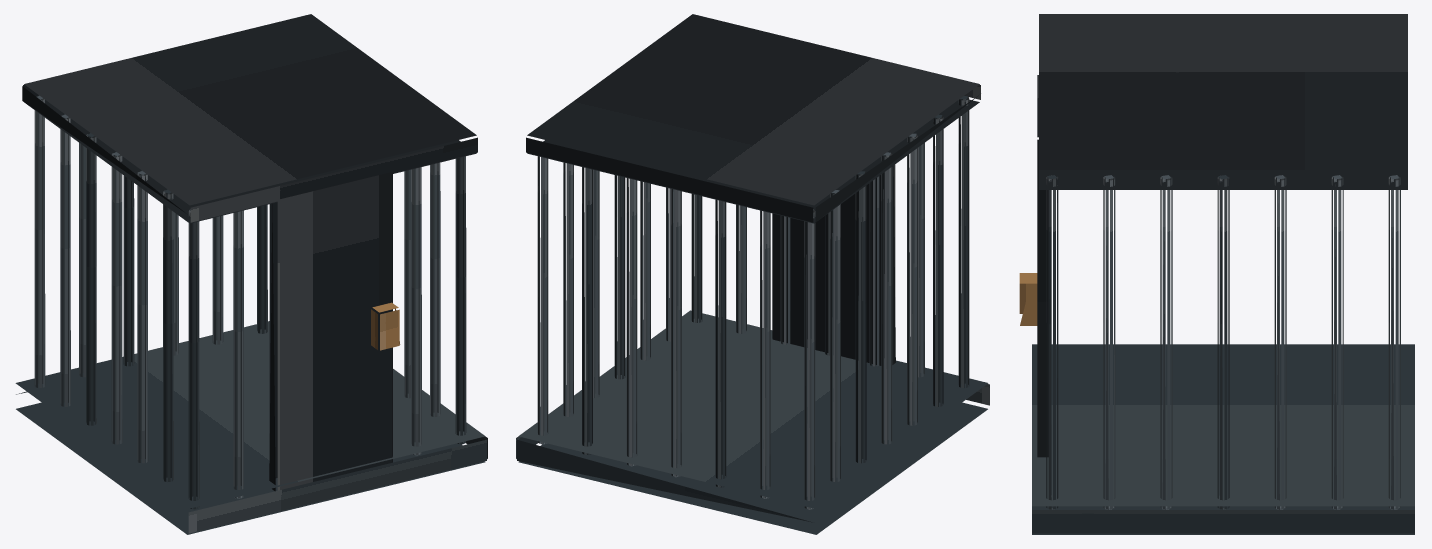
Rendered from dungeon_cage.glb.
3 views of the same model, side by side, from view 1: azimuth 30°, elevation 25°; view 2: azimuth 150°, elevation 25°; view 3: azimuth 270°, elevation 25° (orthographic). The views are drawn at different scales.
Parts seen in each view (by area): view 1: CageRoof, CagePlinth, CageDoorFrame, CageBar_00, CageBar_14, CageBar_03, CageBar_01, CageBar_10, CageBar_06, CageBar_20, CageBar_04, CageBar_18 (+9 smaller); view 2: CageRoof, CagePlinth, CageDoorFrame, CageBar_01, CageBar_00, CageBar_09, CageBar_17, CageBar_14, CageBar_18, CageBar_25, CageBar_10, CageBar_21 (+15 smaller); view 3: CagePlinth, CageRoof, CageBar_11, CageBar_15, CageBar_19, CageBar_23, CageBar_03, CageBar_07, CageBar_25, CageDoorFrame, CageLatch.
Boxes of the visible parts, left/top/right/bottom form: CageRoof: left=22, top=14, right=477, bottom=223; CagePlinth: left=15, top=321, right=487, bottom=534; CageDoorFrame: left=269, top=172, right=392, bottom=491; CageBar_00: left=188, top=209, right=199, bottom=509; CageBar_14: left=111, top=152, right=122, bottom=444; CageBar_03: left=455, top=156, right=466, bottom=444; CageBar_01: left=34, top=95, right=45, bottom=387; CageBar_10: left=137, top=171, right=148, bottom=463; CageBar_06: left=163, top=189, right=173, bottom=481; CageBar_20: left=411, top=167, right=421, bottom=455; CageBar_04: left=233, top=210, right=243, bottom=498; CageBar_18: left=86, top=133, right=96, bottom=425; CageRoof: left=526, top=14, right=980, bottom=223; CagePlinth: left=516, top=310, right=989, bottom=534; CageDoorFrame: left=772, top=164, right=895, bottom=365; CageBar_01: left=804, top=209, right=815, bottom=509; CageBar_00: left=958, top=96, right=969, bottom=387; CageBar_09: left=715, top=199, right=726, bottom=487; CageBar_17: left=626, top=178, right=637, bottom=466; CageBar_14: left=881, top=152, right=892, bottom=444; CageBar_18: left=855, top=171, right=866, bottom=463; CageBar_25: left=537, top=156, right=548, bottom=444; CageBar_10: left=907, top=133, right=917, bottom=425; CageBar_21: left=582, top=167, right=592, bottom=455; CagePlinth: left=1032, top=344, right=1414, bottom=534; CageRoof: left=1039, top=14, right=1407, bottom=189; CageBar_11: left=1160, top=175, right=1172, bottom=509; CageBar_15: left=1217, top=175, right=1229, bottom=509; CageBar_19: left=1274, top=175, right=1286, bottom=509; CageBar_23: left=1331, top=175, right=1343, bottom=509; CageBar_03: left=1046, top=175, right=1058, bottom=509; CageBar_07: left=1103, top=175, right=1115, bottom=509; CageBar_25: left=1388, top=175, right=1400, bottom=509; CageDoorFrame: left=1037, top=75, right=1048, bottom=457; CageLatch: left=1019, top=273, right=1037, bottom=325.
Size of the model in its own units: 2.43 by 2.52 by 2.52.
2 materials, 2 textured.
